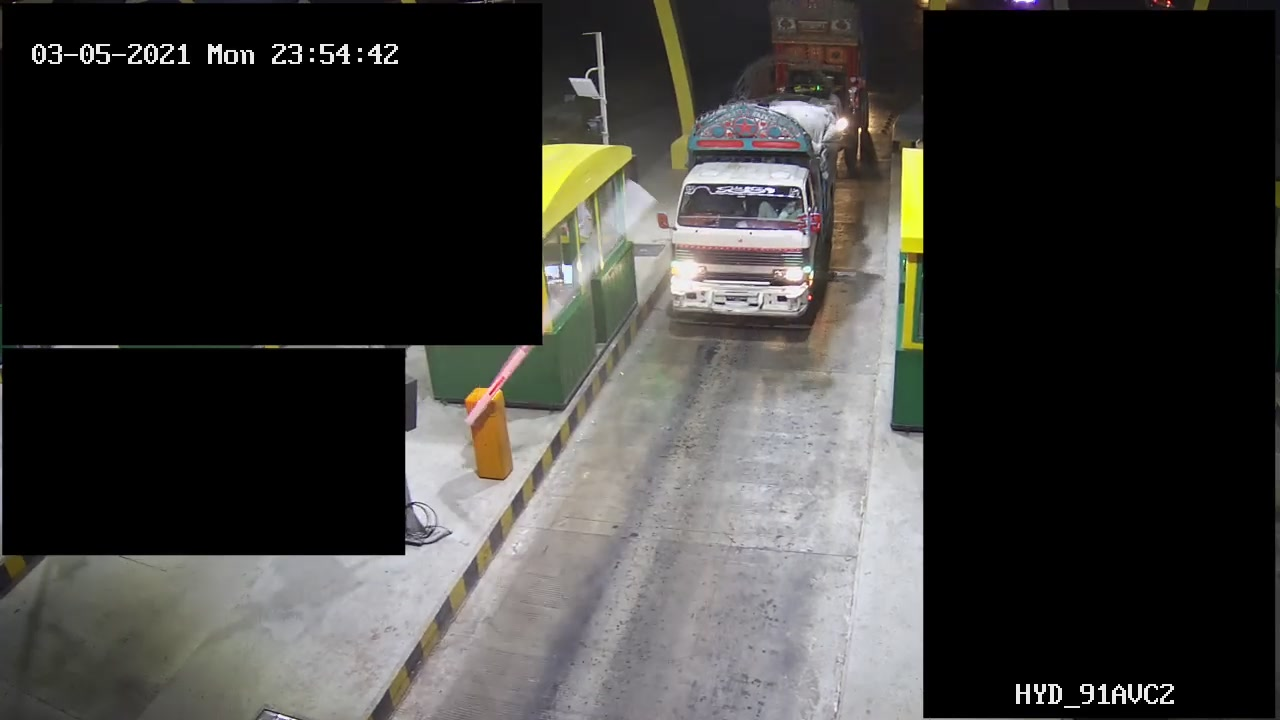F5: (666, 91, 832, 327)
